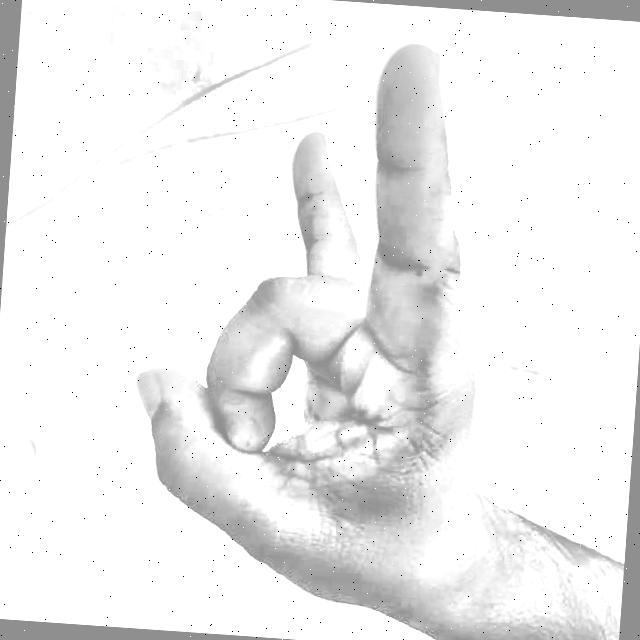Cha: (81, 8, 555, 640)
